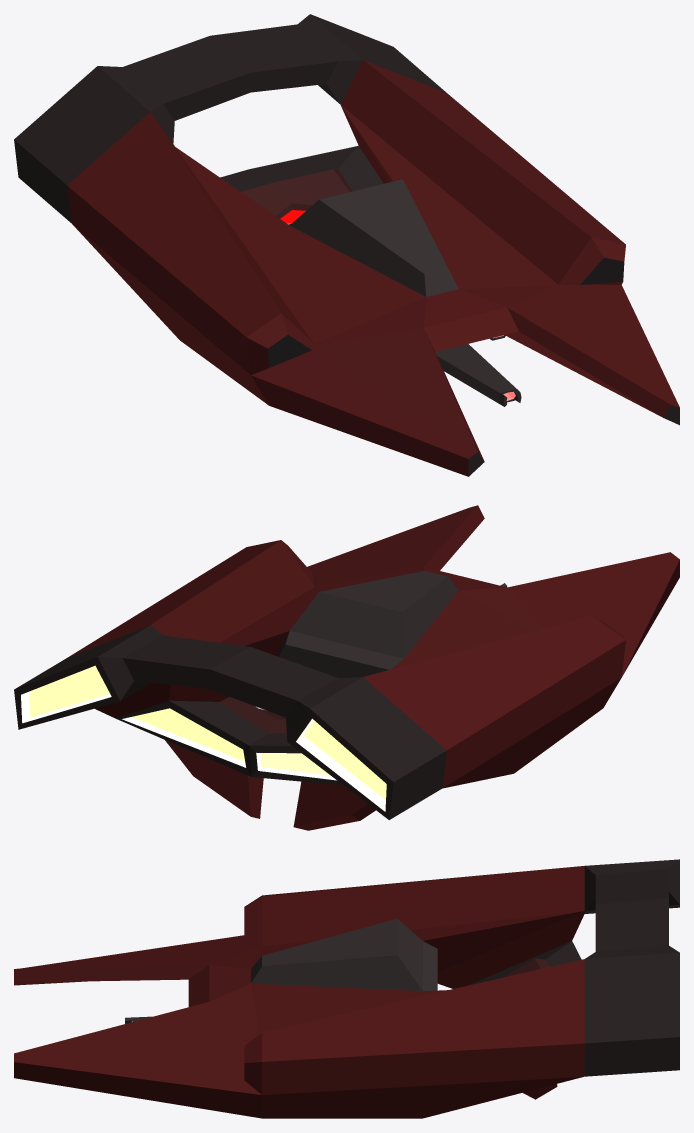
File: Enemy_Frigate.fbx
The picture shows the model from 3 angles, top to bottom: view 1: azimuth 30°, elevation 25°; view 2: azimuth 150°, elevation 25°; view 3: azimuth 270°, elevation 25°; orthographic projection. The views are drawn at different scales.
Parts seen in each view (by area): view 1: pCube1; view 2: pCube1; view 3: pCube1.
Part boxes in pixels (x1,y1,x2,y2): pCube1: (14,14,679,476); pCube1: (14,505,679,830); pCube1: (14,859,679,1118).
Size of the model in its own units: 2189 by 1156 by 3700.
